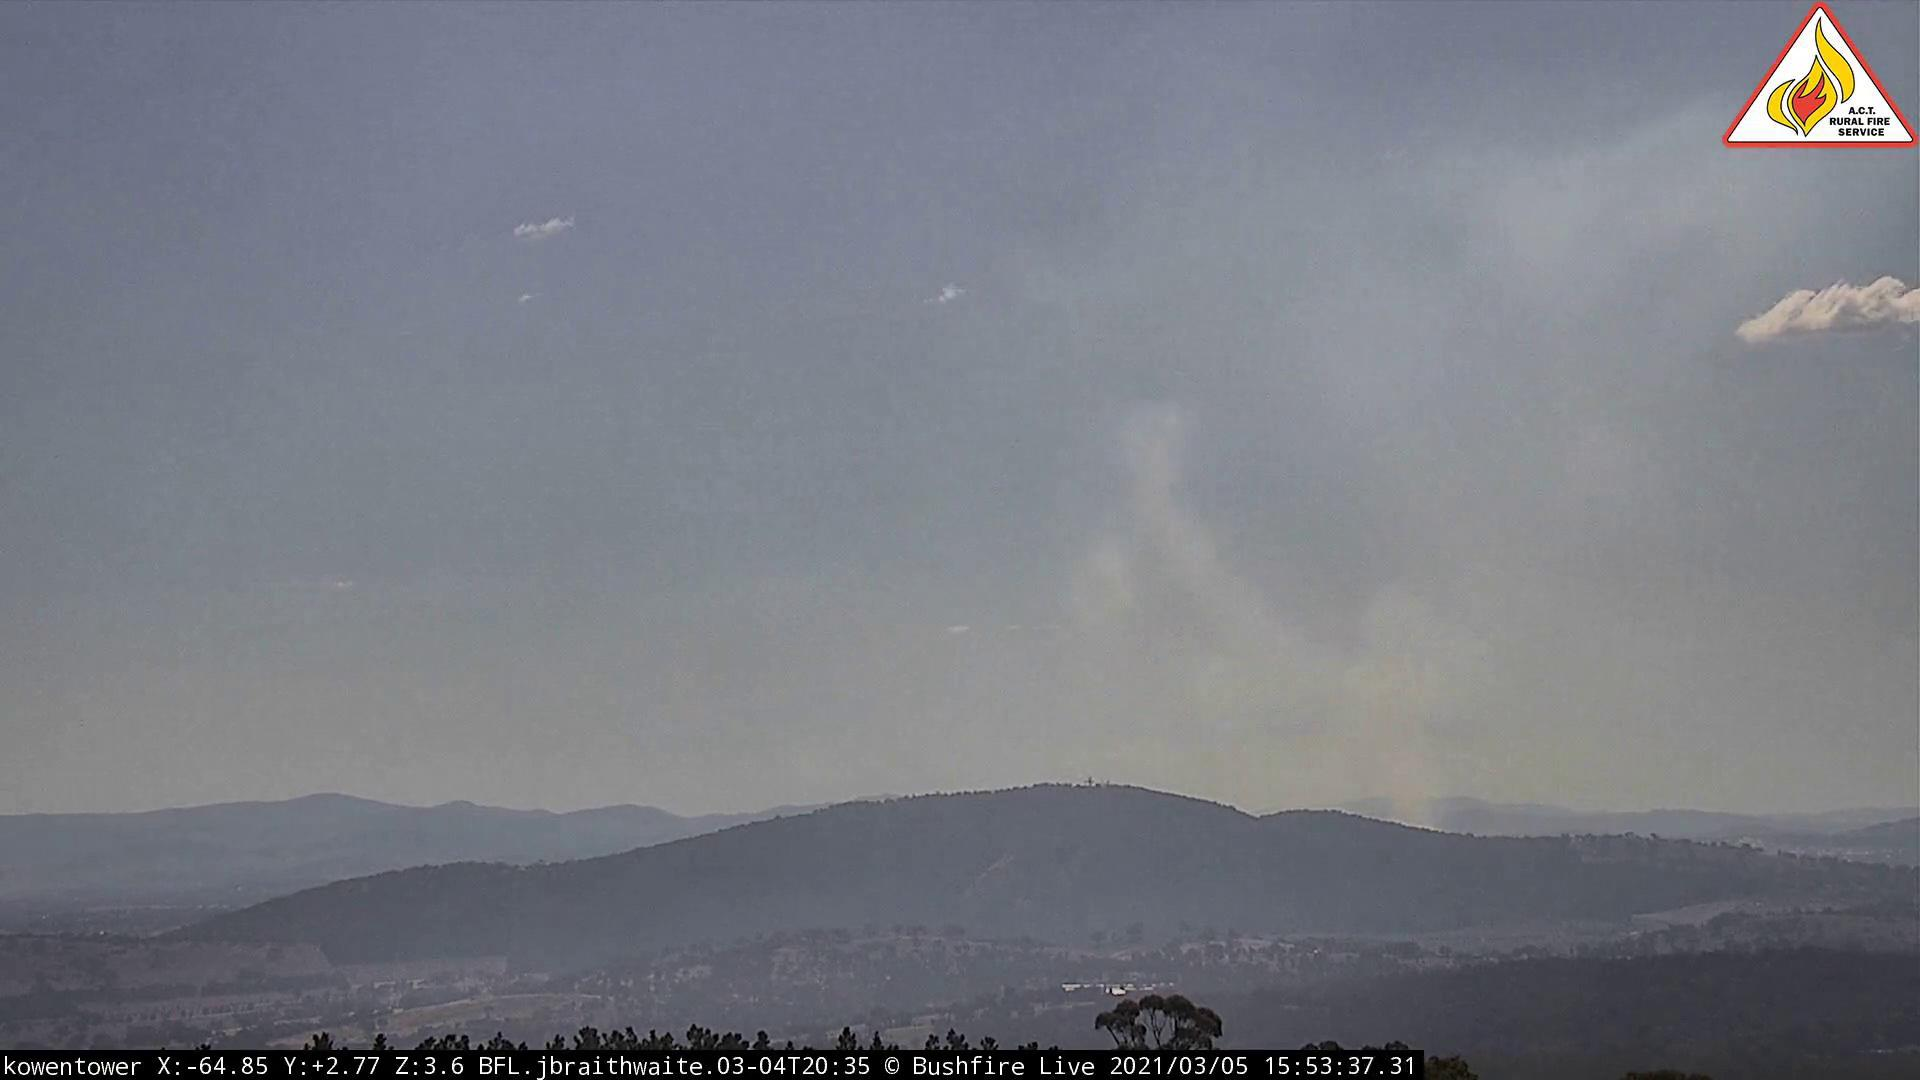Smoke: (1069, 162, 1837, 837)
